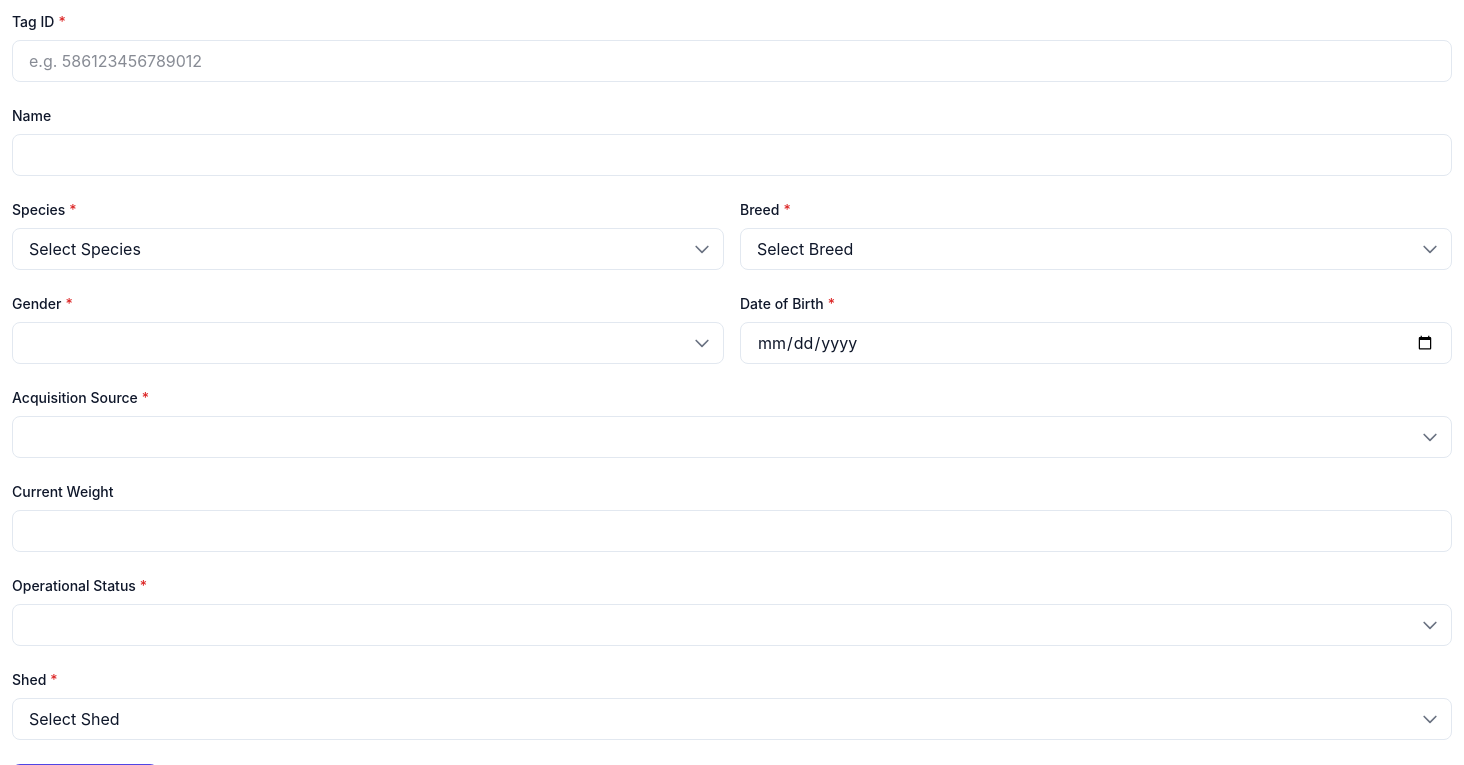
AnimalForm › shows parent animal when Born on Farm is selected
This screenshot has width=1464, height=765.
Select "Born on Farm" in the dropdown named "acquisitionSource" below "Acquisition Source": (732, 437) [12, 416, 1452, 458]
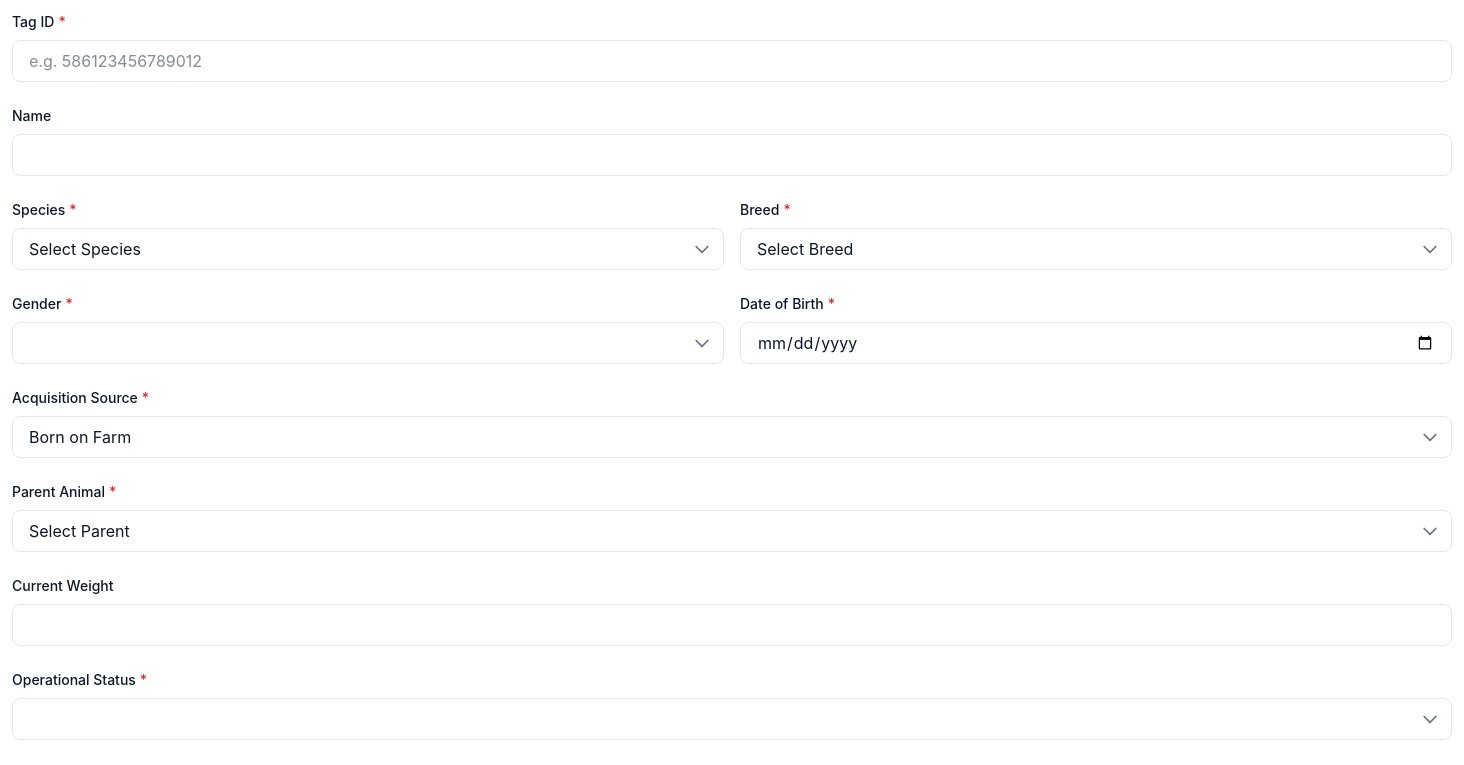
Now the text "Parent Animal" is shown, box [12, 483, 105, 500]
